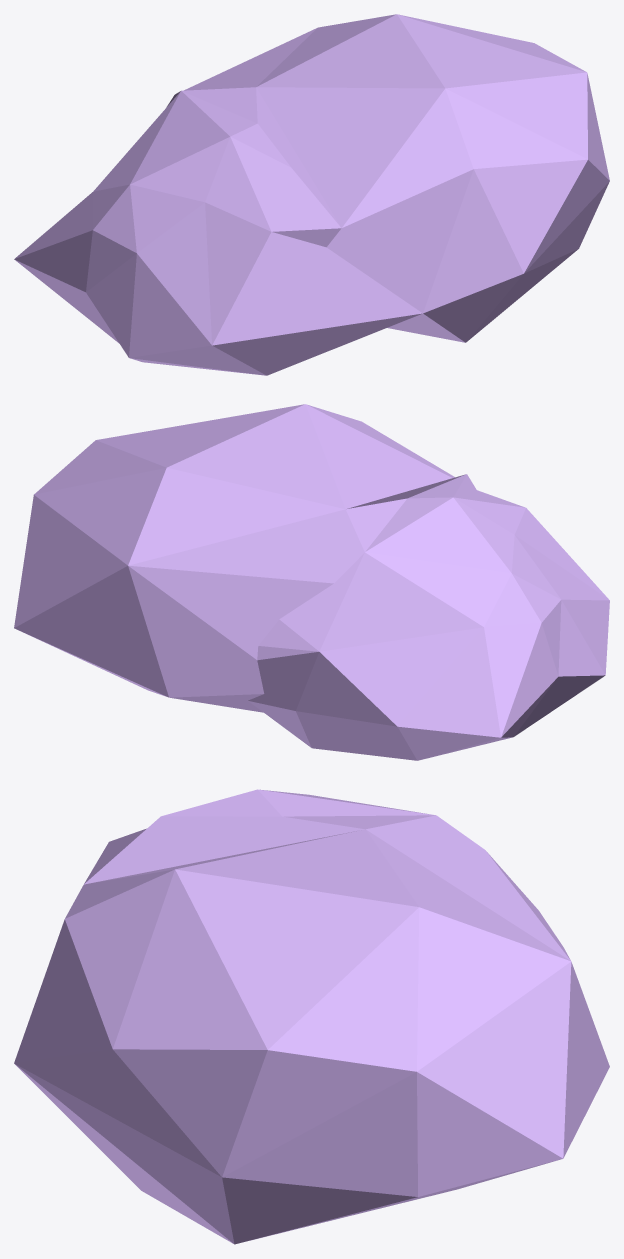
File: treetopleaves_purple.glb
The picture shows the model from 3 angles, top to bottom: view 1: azimuth 30°, elevation 25°; view 2: azimuth 150°, elevation 25°; view 3: azimuth 270°, elevation 25°; orthographic projection. The views are drawn at different scales.
Parts seen in each view (by area): view 1: Cylinder; view 2: Cylinder; view 3: Cylinder.
Boxes of the visible parts, x1,y1,x2,y2 form: Cylinder: [14, 14, 609, 375]; Cylinder: [14, 404, 609, 760]; Cylinder: [14, 789, 609, 1244].
Bounding box in the file's own units: 1.68 × 0.8055 × 1.35.
